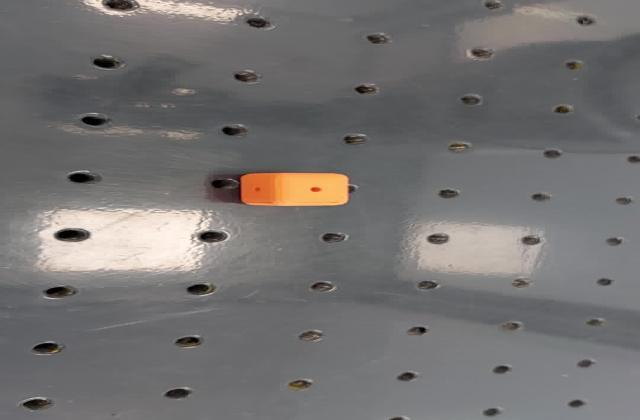cube: (237, 172, 353, 210)
